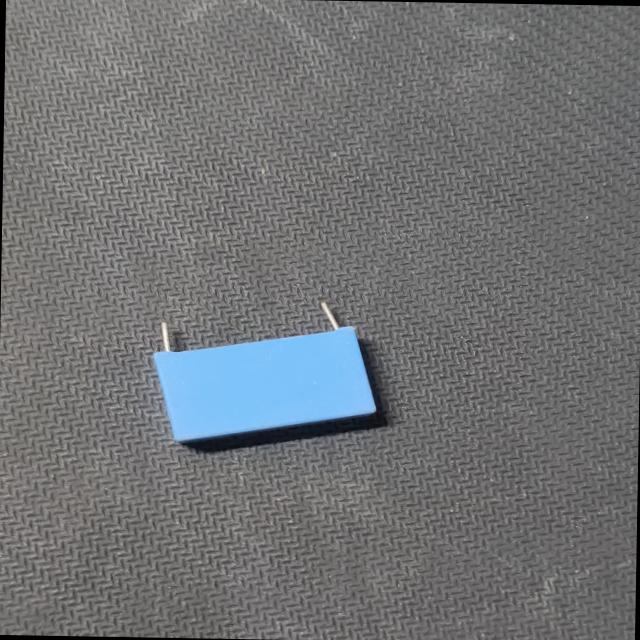capacitor: (145, 290, 394, 460)
